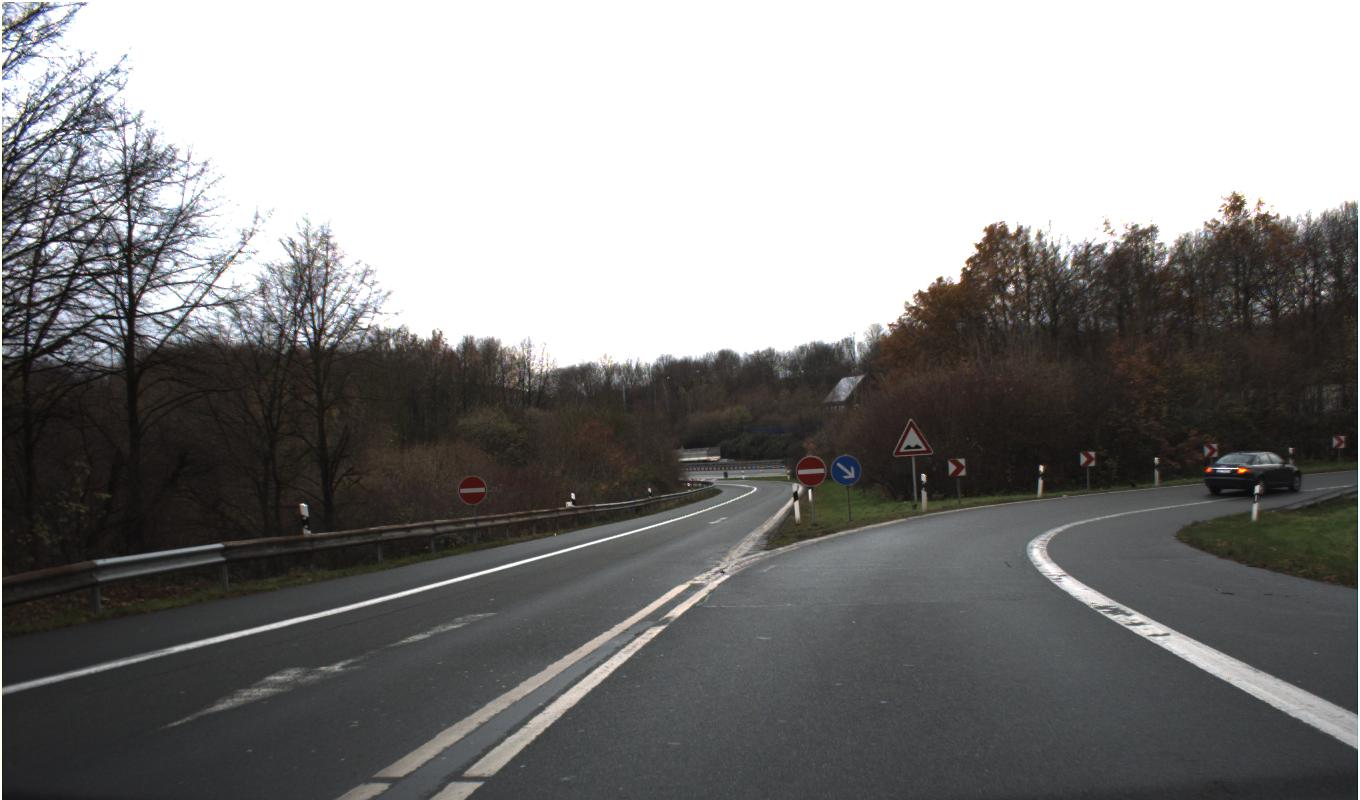danger: (892, 417, 934, 457)
mandatory: (829, 453, 862, 486)
sign: (795, 454, 827, 487), (457, 474, 488, 505)
